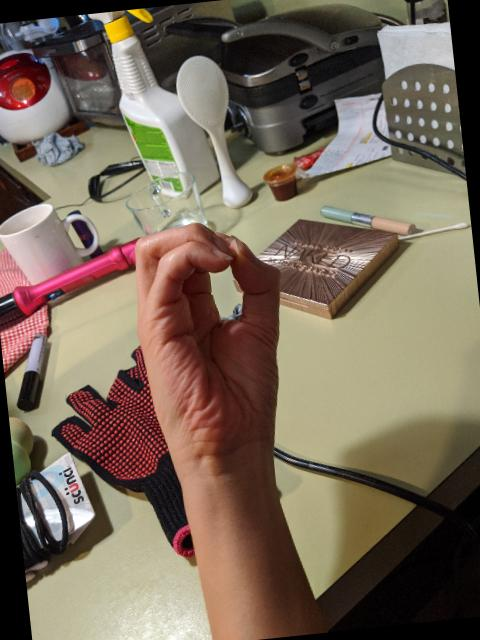O: (121, 211, 306, 484)
